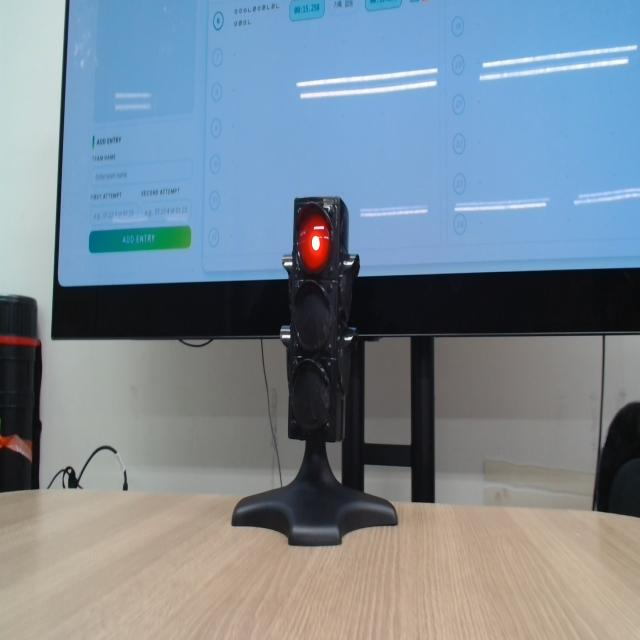red_light: (298, 207, 331, 273)
